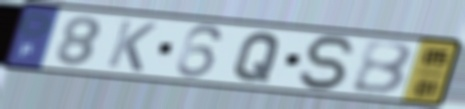6: (174, 23, 225, 81)
8: (54, 15, 104, 68)
B: (349, 40, 416, 97)
K: (103, 17, 160, 74)
Q: (231, 31, 285, 84)
S: (297, 34, 361, 93)
